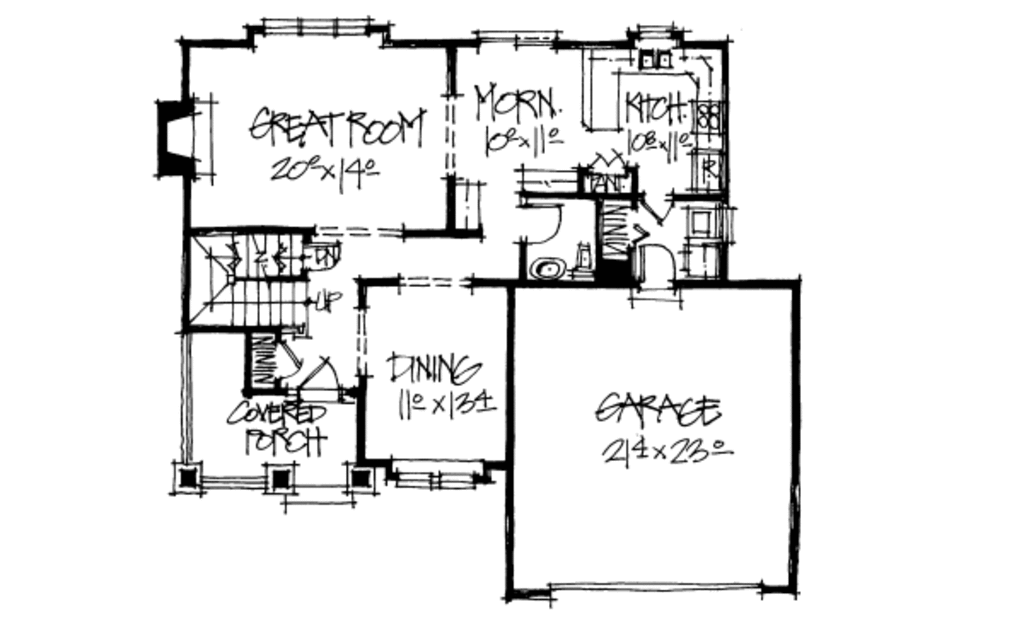door: (639, 246, 687, 308), (299, 354, 354, 404), (263, 338, 309, 383), (514, 200, 560, 242), (639, 190, 680, 225), (300, 242, 347, 272)
large_sink: (571, 238, 597, 287)
small_sink: (522, 250, 572, 282)
stairs: (186, 233, 318, 332)
twin_sink: (637, 42, 691, 79)
window: (385, 454, 487, 494), (256, 15, 382, 40), (465, 23, 558, 52)
